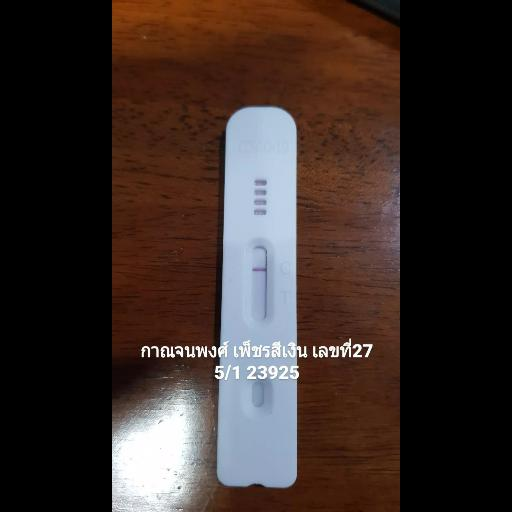Neg: (225, 106, 297, 488)
